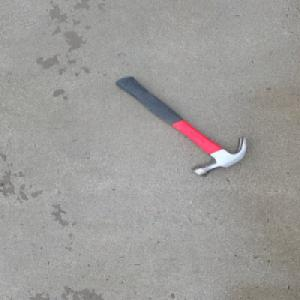Hammer: (111, 75, 248, 178)
